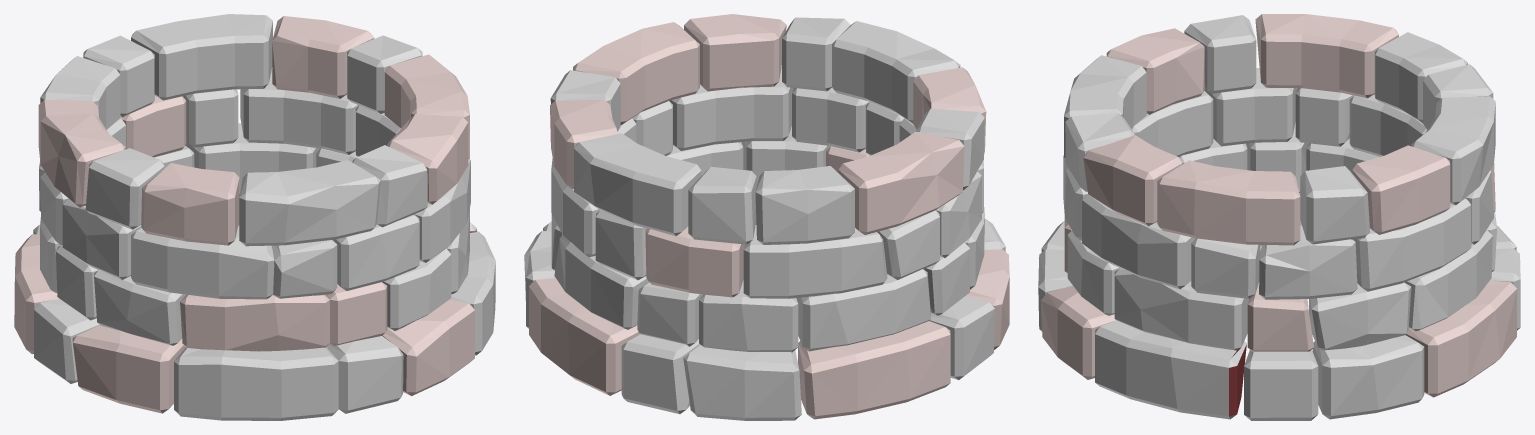
The model's file is well.dae.
The picture shows the model from 3 angles, left to right: view 1: azimuth 30°, elevation 25°; view 2: azimuth 150°, elevation 25°; view 3: azimuth 270°, elevation 25°; orthographic projection.
Visible parts, largest first — view 1: Plane.000; view 2: Plane.000; view 3: Plane.000.
Part boxes in pixels (<box>): Plane.000: <box>14,14,495,420</box>; Plane.000: <box>524,14,1009,420</box>; Plane.000: <box>1038,14,1520,420</box>.
Size of the model in its own units: 14.57 by 14.56 by 7.4.
